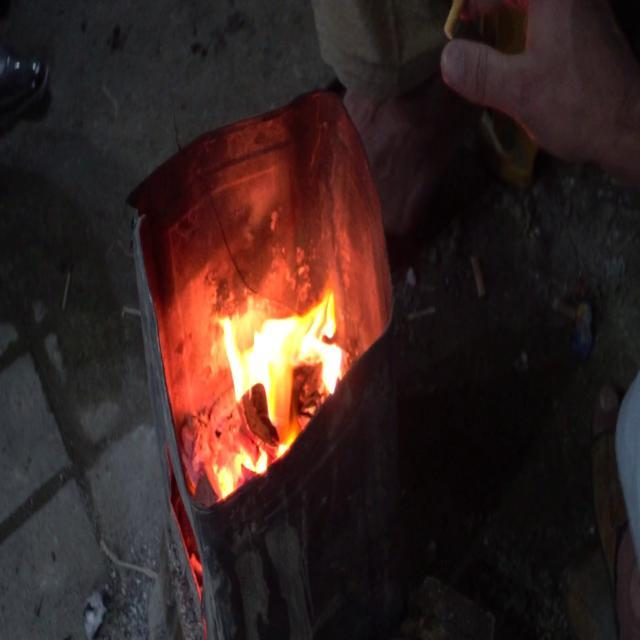Fire: (187, 260, 353, 426)
